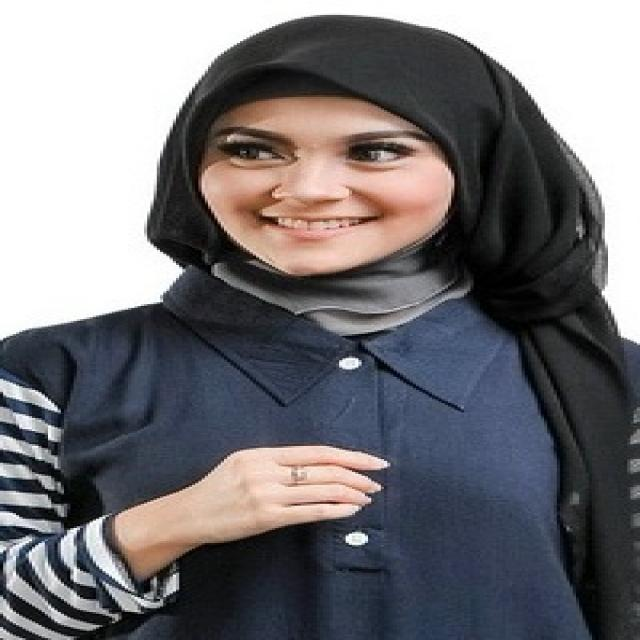head: (162, 13, 500, 287)
